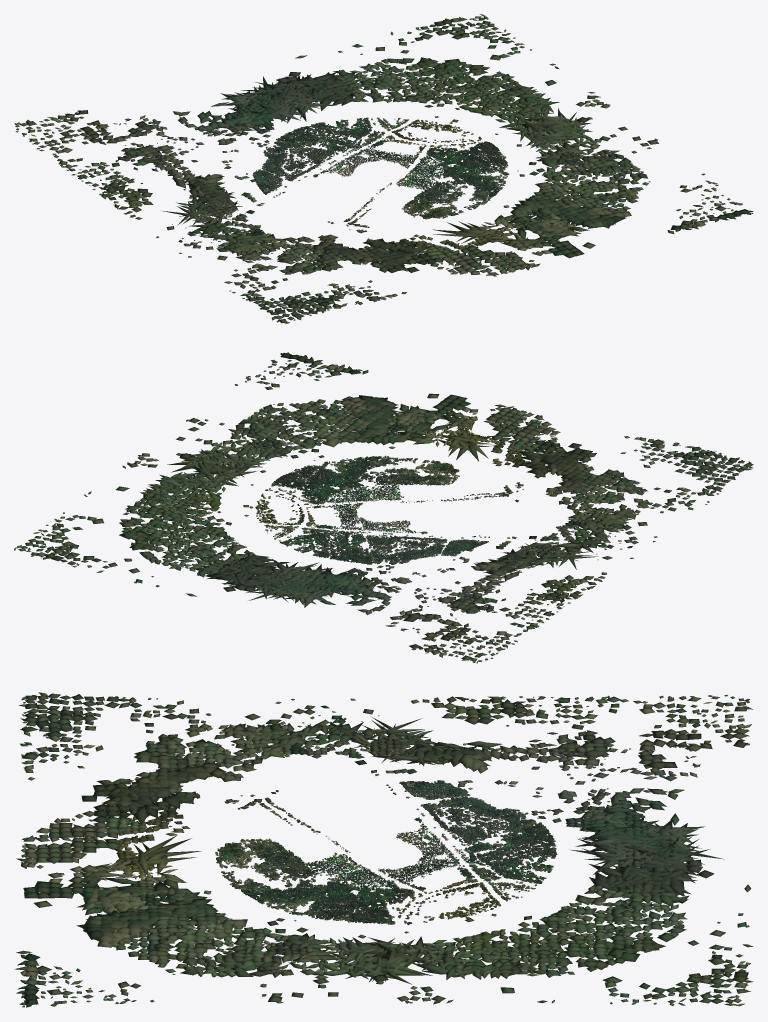
The model's file is blacktown_backdrop_part2.glb.
3 views of the same model, one above another, from view 1: azimuth 30°, elevation 25°; view 2: azimuth 150°, elevation 25°; view 3: azimuth 270°, elevation 25° (orthographic). The views are drawn at different scales.
Parts seen in each view (by area): view 1: bg_trees_joined_s10, bg_trees_joined_s13, bg_trees_joined_s09, bg_trees_joined_s12, bg_trees_joined_s11, bg_trees_joined_s08, bg_trees_joined_s15, bg_trees_joined_s14, bg_trees_joined_s03, bg_trees_joined_s06, bg_trees_joined_s02, bg_trees_joined_s05 (+3 smaller); view 2: bg_trees_joined_s10, bg_trees_joined_s13, bg_trees_joined_s12, bg_trees_joined_s09, bg_trees_joined_s08, bg_trees_joined_s11, bg_trees_joined_s15, bg_trees_joined_s14, bg_trees_joined_s03, bg_trees_joined_s06, bg_trees_joined_s02, bg_trees_joined_s05 (+3 smaller); view 3: bg_trees_joined_s10, bg_trees_joined_s09, bg_trees_joined_s13, bg_trees_joined_s12, bg_trees_joined_s11, bg_trees_joined_s08, bg_trees_joined_s15, bg_trees_joined_s14, bg_trees_joined_s03, bg_trees_joined_s06, bg_trees_joined_s02, bg_trees_joined_s05 (+3 smaller).
Boxes of the visible parts, <box> form: bg_trees_joined_s10: <box>444,187,753,270</box>; bg_trees_joined_s13: <box>255,16,476,122</box>; bg_trees_joined_s09: <box>282,217,515,323</box>; bg_trees_joined_s12: <box>423,14,610,135</box>; bg_trees_joined_s11: <box>498,117,753,211</box>; bg_trees_joined_s08: <box>156,203,347,322</box>; bg_trees_joined_s15: <box>15,127,265,222</box>; bg_trees_joined_s14: <box>14,77,307,152</box>; bg_trees_joined_s03: <box>404,142,508,185</box>; bg_trees_joined_s06: <box>263,123,366,168</box>; bg_trees_joined_s02: <box>396,175,502,217</box>; bg_trees_joined_s05: <box>317,117,409,162</box>; bg_trees_joined_s10: <box>284,352,519,463</box>; bg_trees_joined_s13: <box>21,527,319,599</box>; bg_trees_joined_s12: <box>14,453,272,550</box>; bg_trees_joined_s09: <box>466,410,752,493</box>; bg_trees_joined_s08: <box>507,464,753,559</box>; bg_trees_joined_s11: <box>176,353,340,477</box>; bg_trees_joined_s15: <box>434,541,606,660</box>; bg_trees_joined_s14: <box>248,556,482,663</box>; bg_trees_joined_s03: <box>274,458,376,505</box>; bg_trees_joined_s06: <box>320,521,413,564</box>; bg_trees_joined_s02: <box>351,455,447,500</box>; bg_trees_joined_s05: <box>264,514,369,556</box>; bg_trees_joined_s10: <box>14,848,262,1006</box>; bg_trees_joined_s09: <box>19,696,261,854</box>; bg_trees_joined_s13: <box>534,845,753,999</box>; bg_trees_joined_s12: <box>380,908,745,1006</box>; bg_trees_joined_s11: <box>22,905,395,1007</box>; bg_trees_joined_s08: <box>26,692,392,799</box>; bg_trees_joined_s15: <box>372,695,734,789</box>; bg_trees_joined_s14: <box>527,698,752,862</box>; bg_trees_joined_s03: <box>266,864,386,923</box>; bg_trees_joined_s06: <box>412,808,555,855</box>; bg_trees_joined_s02: <box>216,851,360,903</box>; bg_trees_joined_s05: <box>413,851,555,901</box>.
Size of the model in its own units: 3029 by 65.5 by 3054.
1 material, 1 textured.
